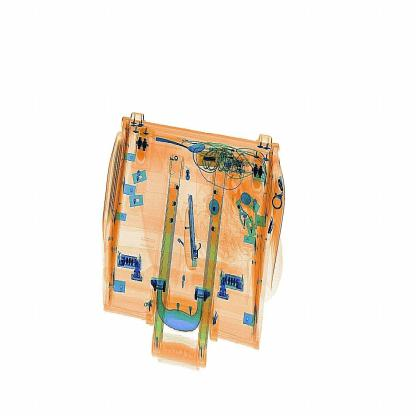pliers: (184, 192, 201, 280)
